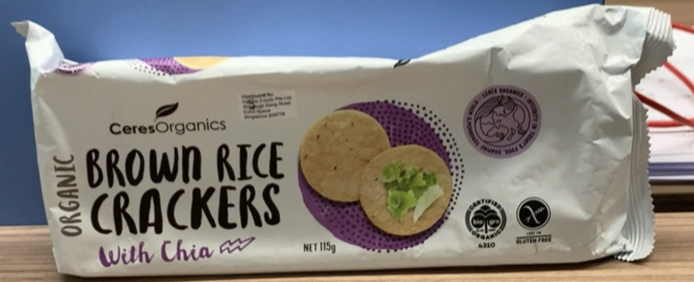crackers_150g: (50, 68, 585, 264)
